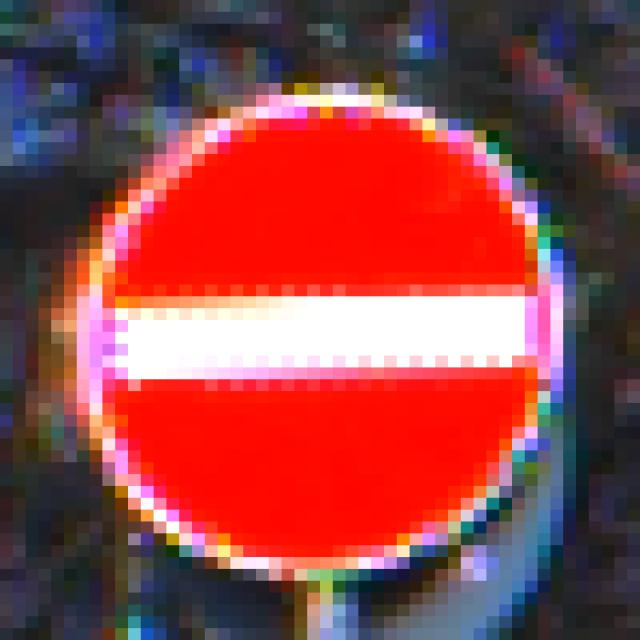No Entry: (78, 72, 577, 582)
